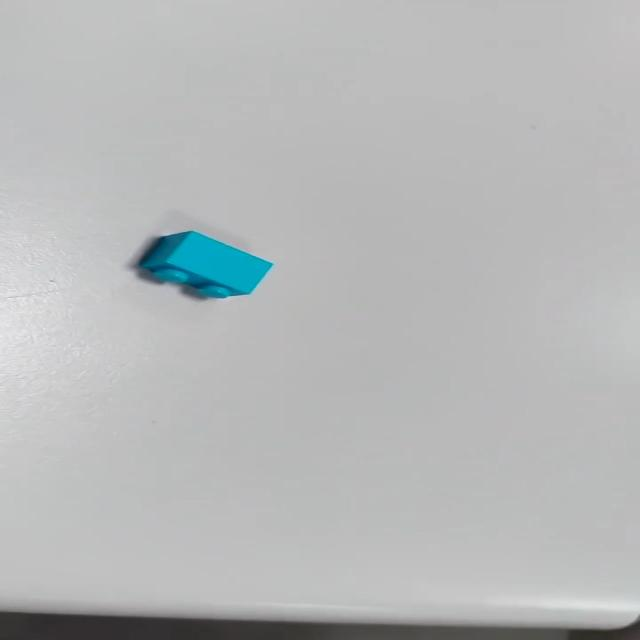C2x1x1: (136, 229, 275, 299)
